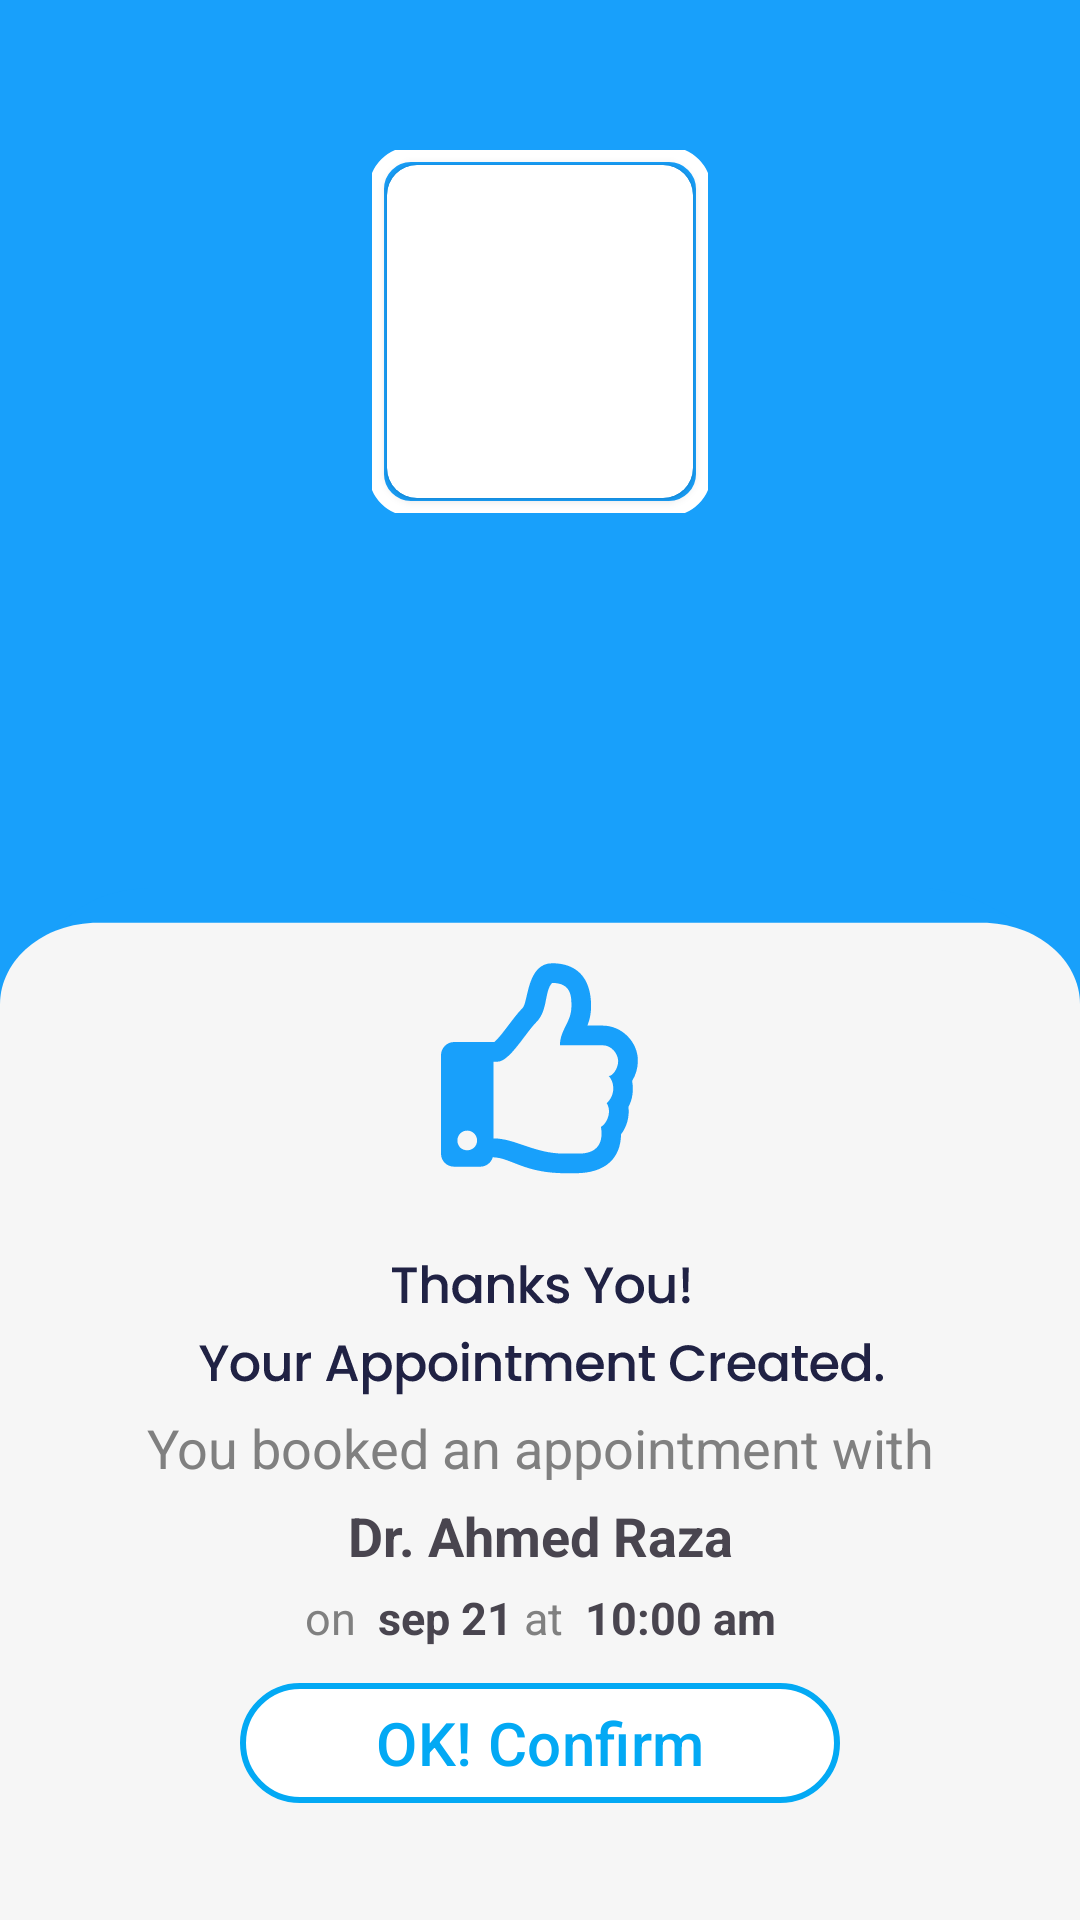

Screen size 1080x1920. Icon name, then its center in pixels as (x,y):
thumbs up: (539,1068)
